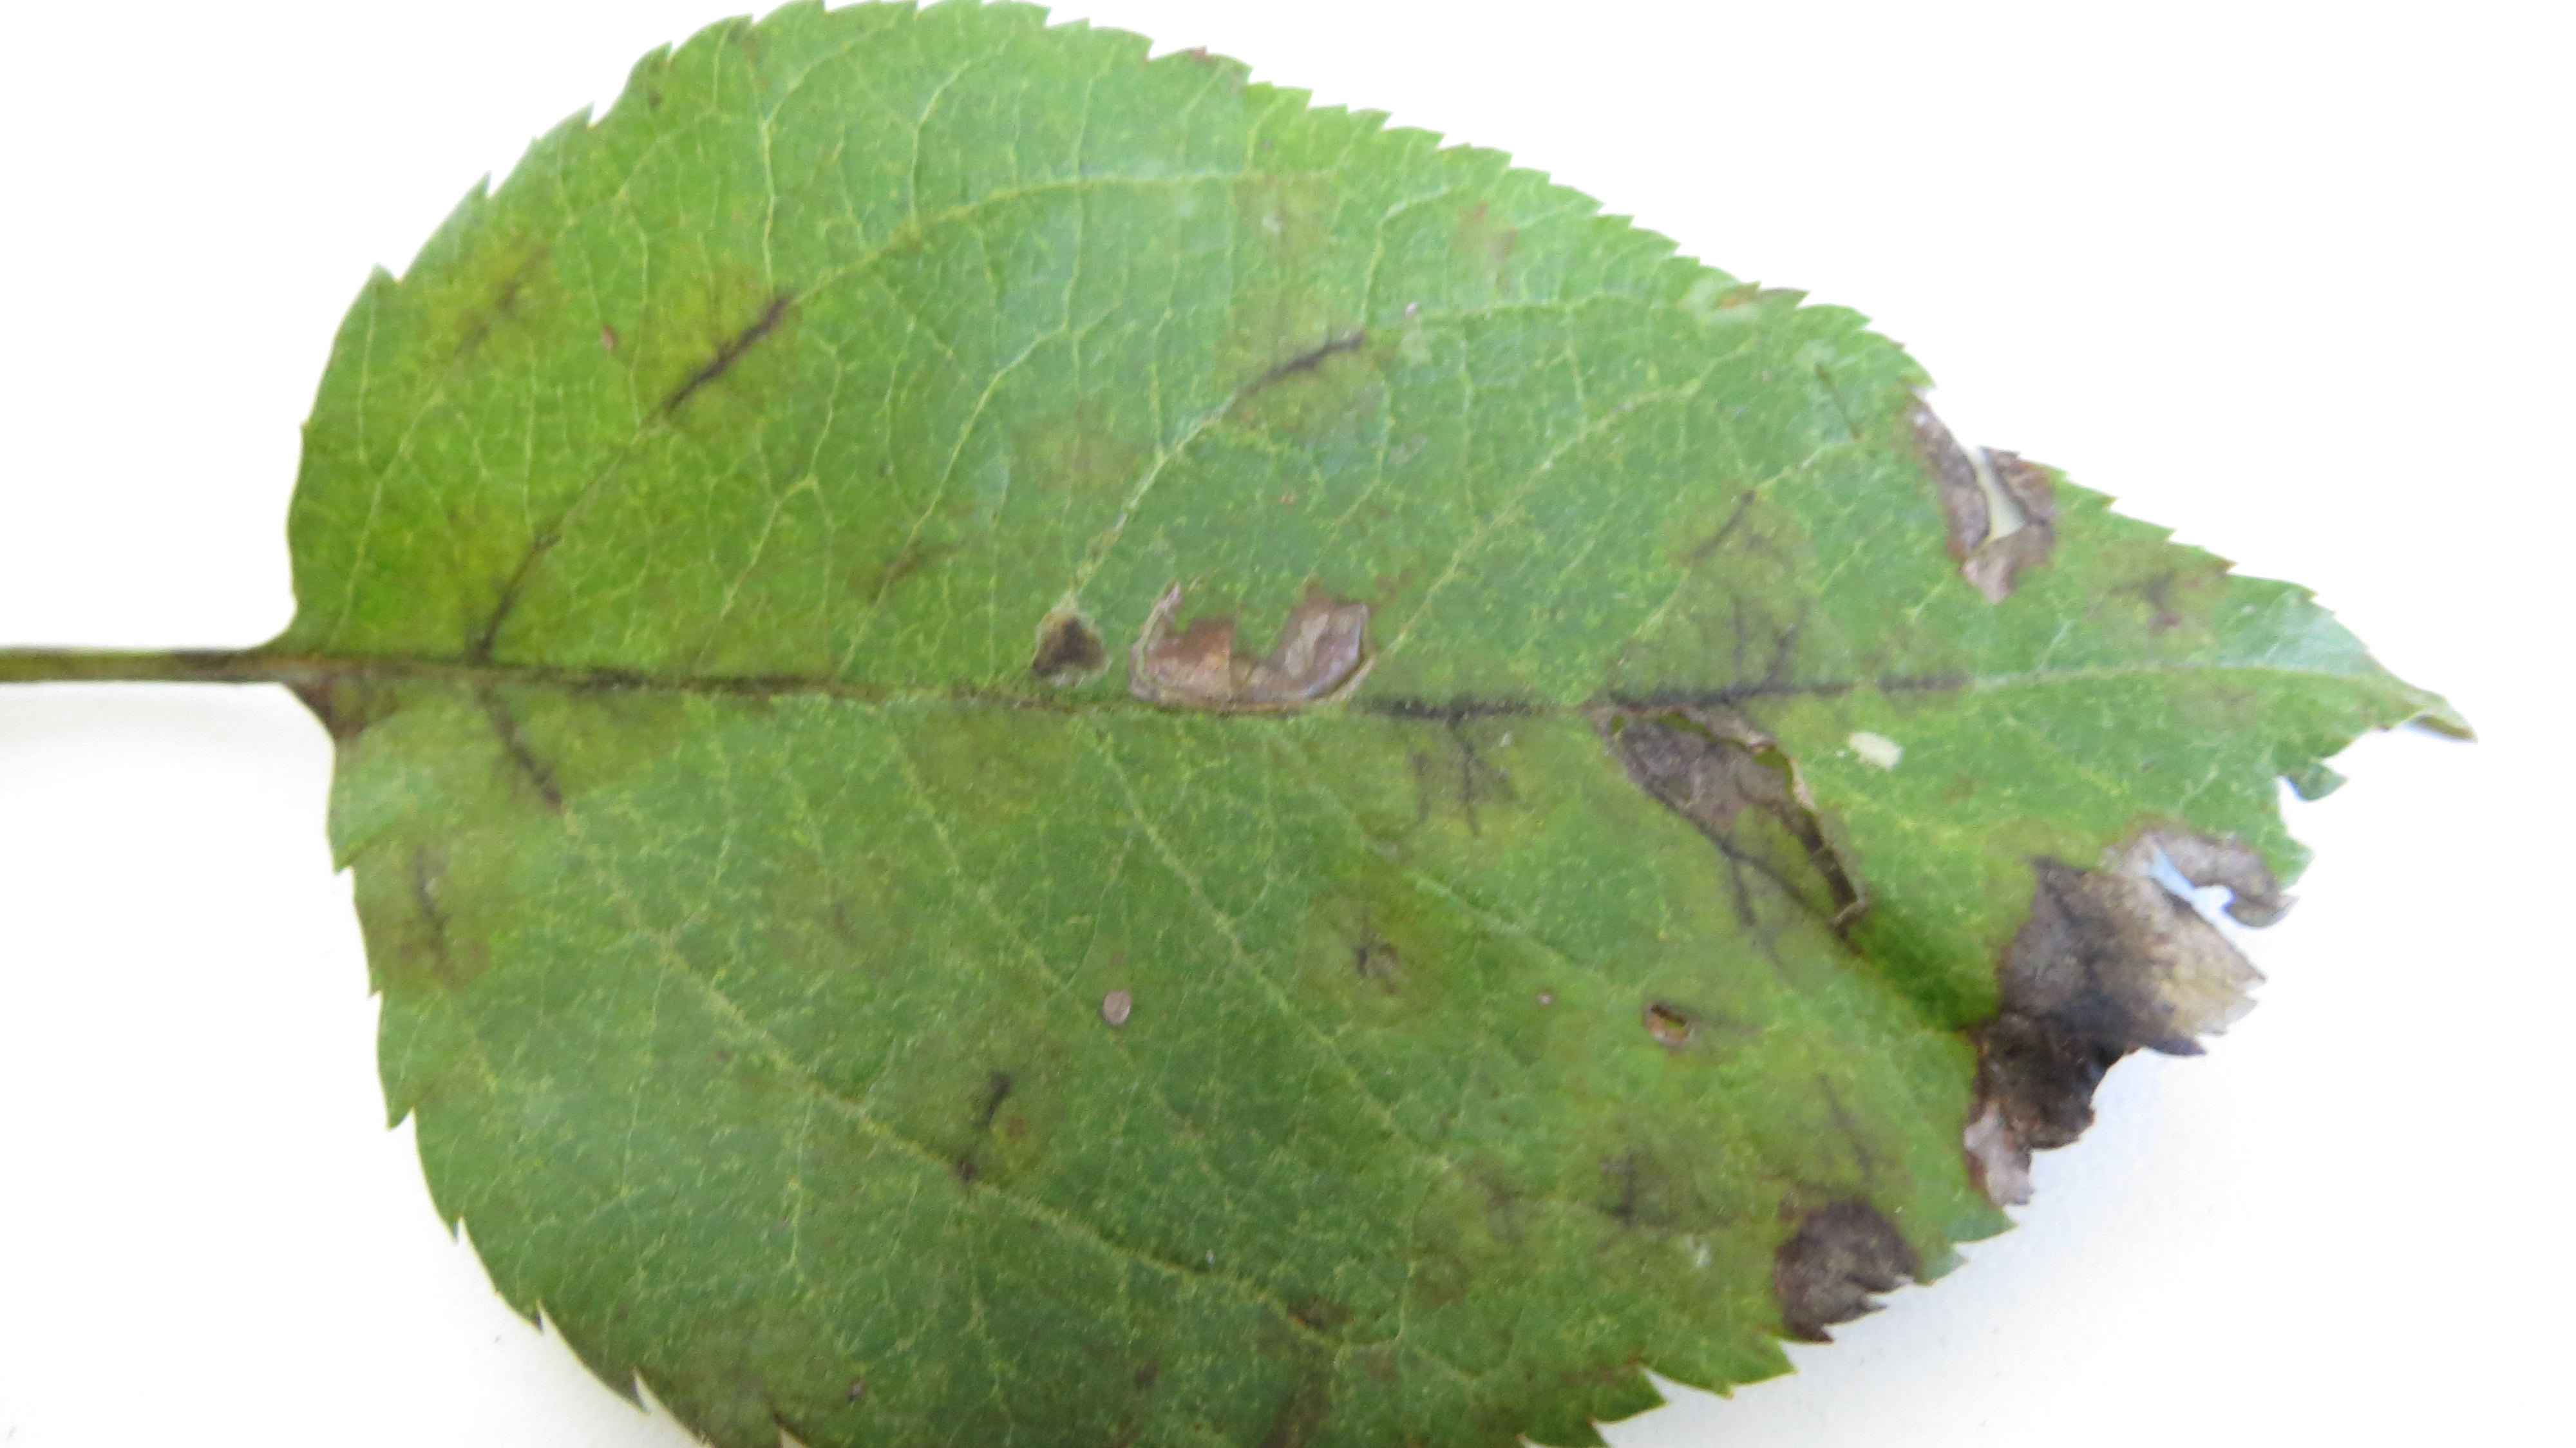sarna: (1596, 584, 1877, 956), (1969, 811, 2105, 1213), (2100, 788, 2261, 1057), (1893, 375, 2066, 609), (1129, 566, 1373, 726), (911, 1011, 1063, 1218), (1361, 634, 1534, 813), (333, 828, 501, 1005), (640, 267, 805, 446), (1407, 1112, 1569, 1292), (663, 1294, 853, 1443), (1210, 290, 1391, 444), (929, 666, 1083, 844), (280, 605, 448, 759), (1663, 458, 1838, 604), (711, 588, 874, 740), (405, 237, 568, 384), (1760, 1182, 1905, 1347), (1253, 1267, 1382, 1443), (460, 667, 600, 823), (448, 506, 571, 664), (594, 628, 724, 777), (2098, 517, 2222, 667), (1564, 1122, 1686, 1275), (1297, 878, 1424, 1011), (770, 844, 909, 959), (1010, 404, 1136, 520), (1787, 1046, 1891, 1177), (1856, 616, 1974, 729), (1247, 165, 1352, 280), (1012, 568, 1106, 696), (863, 506, 977, 609), (1430, 188, 1527, 301), (1622, 988, 1734, 1078), (1674, 260, 1776, 342)
